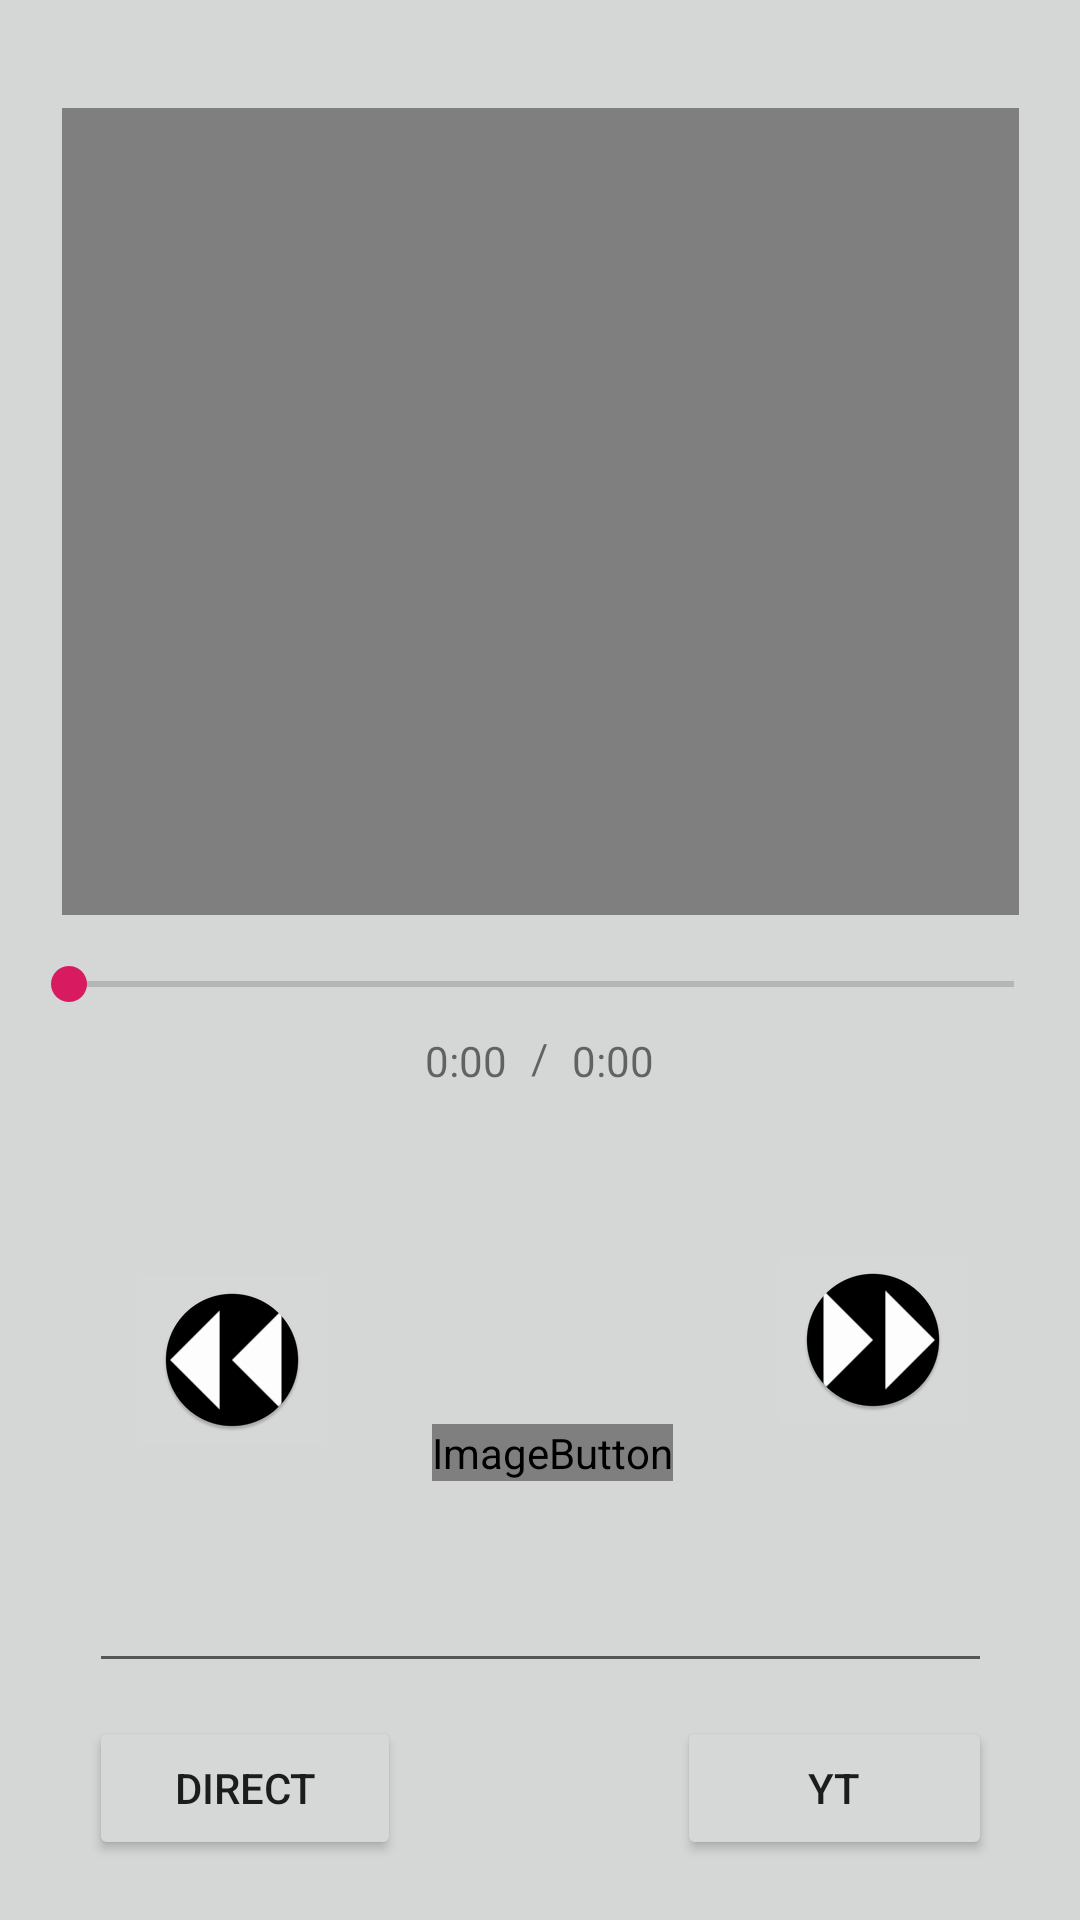

Icon bounding boxes for this 1080×1920 phone screenshot, format [x1, y1, x2, y2]:
icback round: [165, 1293, 299, 1429]
icforward round: [806, 1273, 940, 1409]
